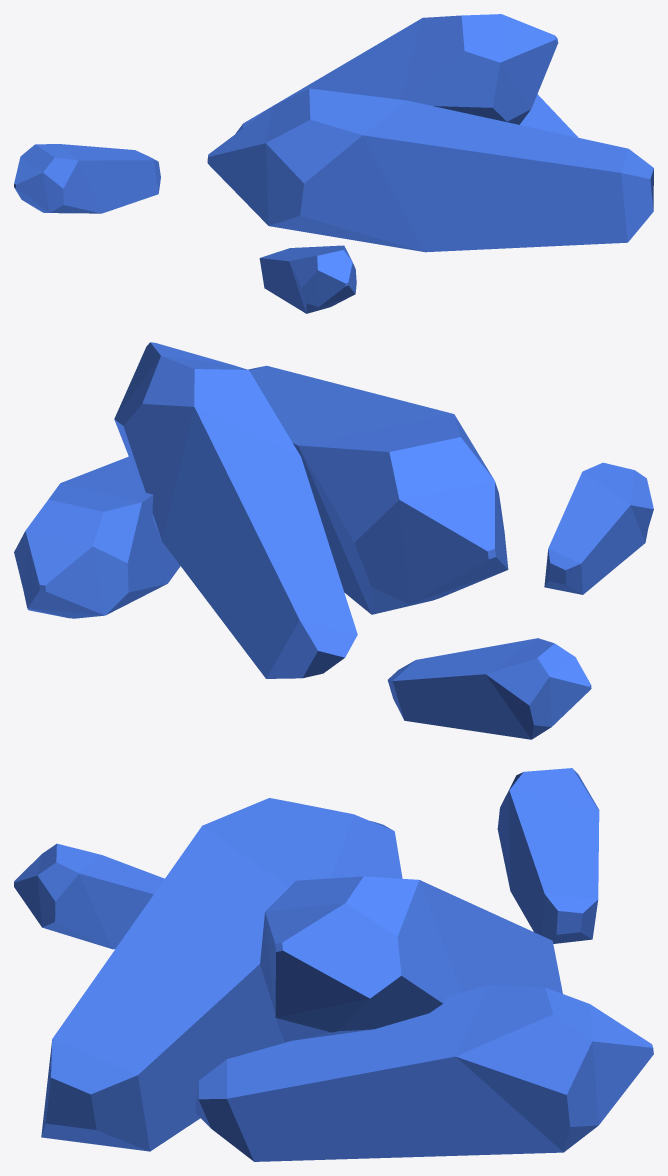
The model's file is Flint3.fbx.
The picture shows the model from 3 angles, top to bottom: view 1: azimuth 30°, elevation 25°; view 2: azimuth 150°, elevation 25°; view 3: azimuth 270°, elevation 25°; orthographic projection. The views are drawn at different scales.
Visible parts, largest first — view 1: shard_of_ore_4_Cube.058; view 2: shard_of_ore_4_Cube.058; view 3: shard_of_ore_4_Cube.058.
Boxes of the visible parts, x1,y1,x2,y2 form: shard_of_ore_4_Cube.058: [14, 14, 653, 313]; shard_of_ore_4_Cube.058: [14, 342, 653, 739]; shard_of_ore_4_Cube.058: [14, 768, 653, 1161].
Size of the model in its own units: 0.7388 by 0.2656 by 0.5966.
